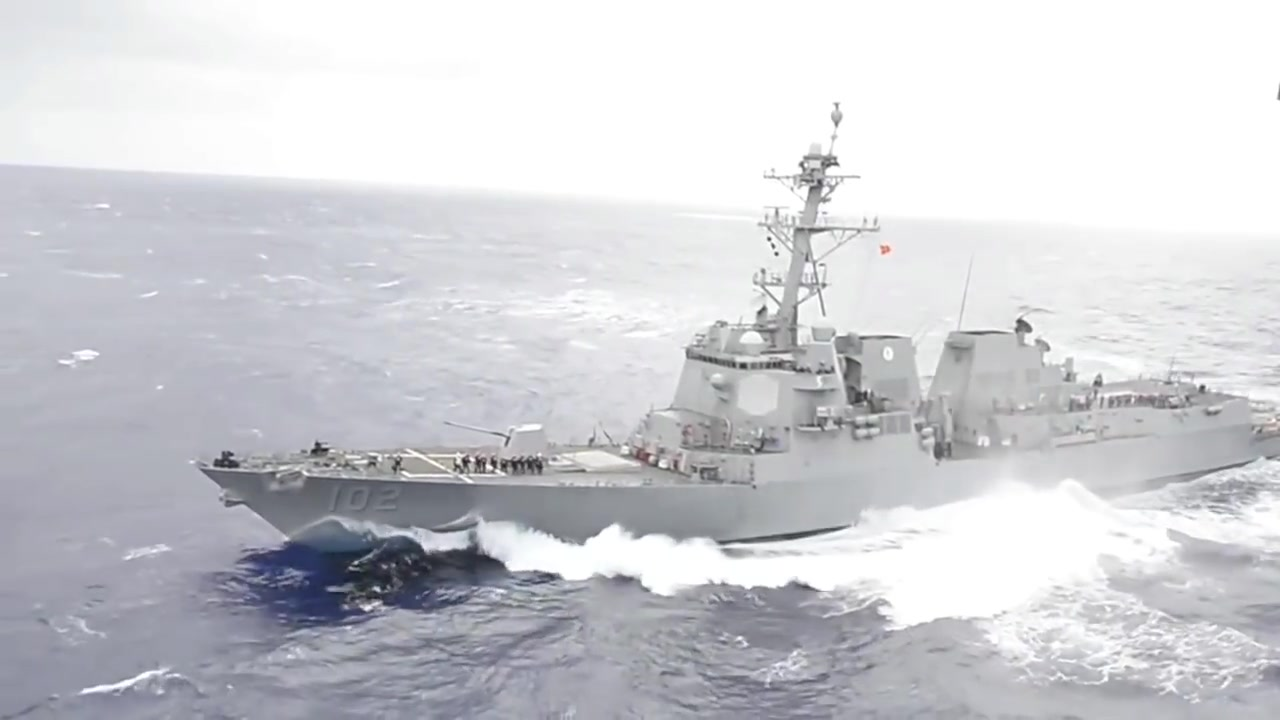WarShip: (182, 190, 1255, 571)
